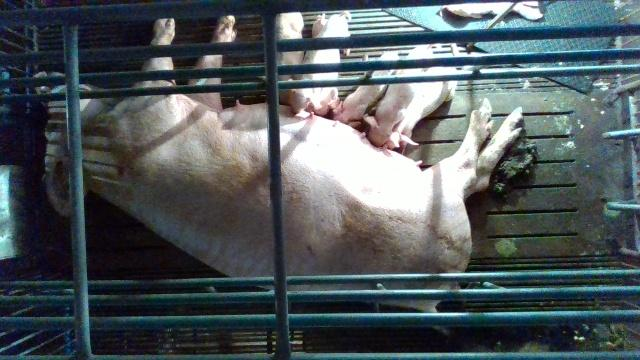piglet: (363, 45, 433, 147), (288, 11, 351, 114), (393, 68, 457, 152), (333, 51, 400, 127), (312, 14, 338, 117), (276, 12, 304, 105)
sow-sleep-lactate: (31, 14, 524, 334)
